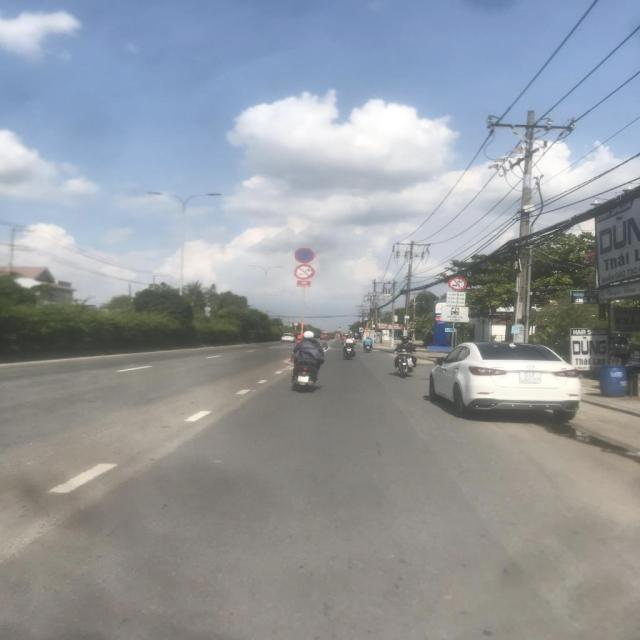107-cam-oto-khach-va-oto-tai: (448, 277, 467, 291)
